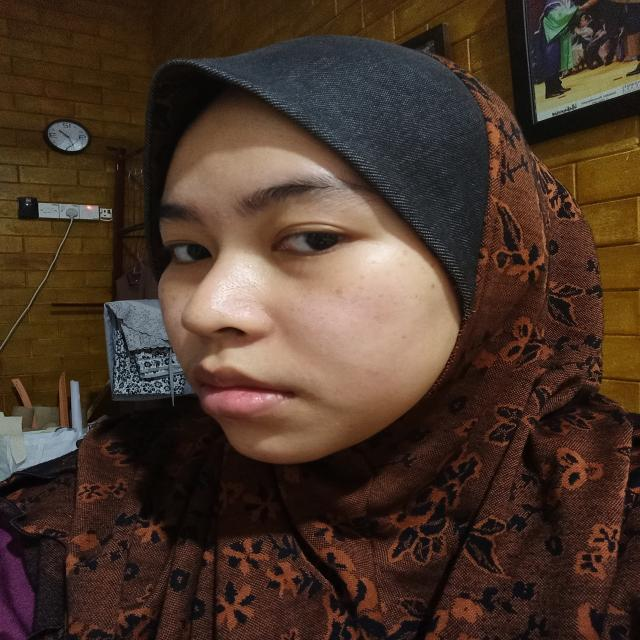Englarged-Pores: (280, 301, 370, 351), (209, 287, 262, 318), (224, 263, 267, 294)
